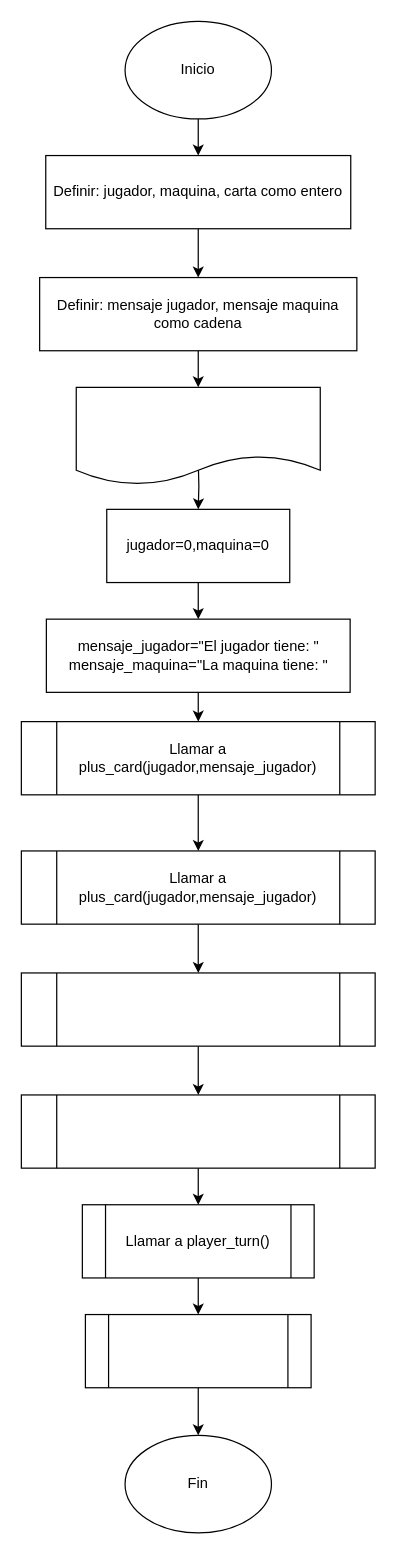
Some shapes in this 397 by 1554 pixel diagram are drawn without their labels. Each missing label, with the centre of its shape:
Escribir "Bienvenido a BlackJack": point (197, 435)
Llamar a machine_turn(): point (197, 1350)
Llamar a plus_card(maquina,mensaje_maquina: point (197, 1131)
Llamar a plus_card(maquina,mensaje_maquina): point (197, 1009)
